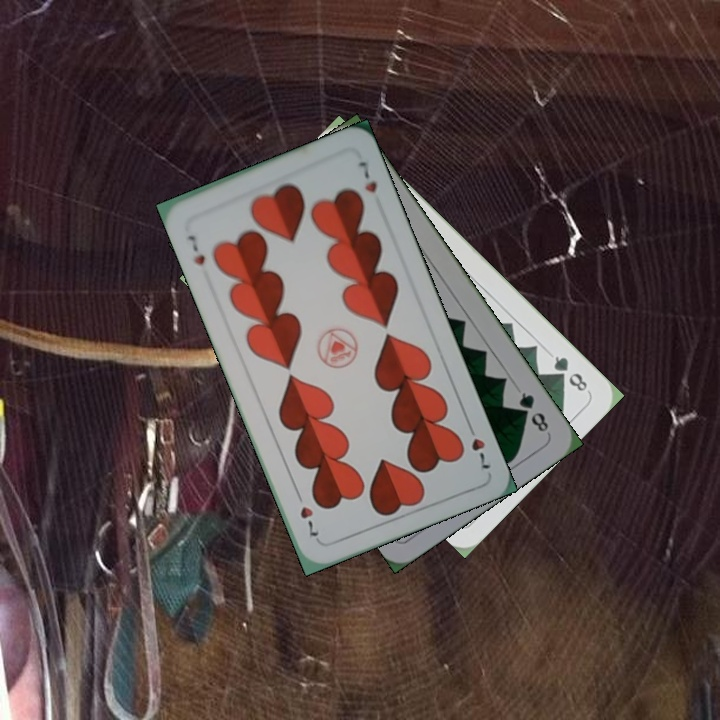G8: (549, 351, 590, 395), (514, 388, 552, 435)
H7: (463, 418, 493, 472), (183, 231, 208, 268)
